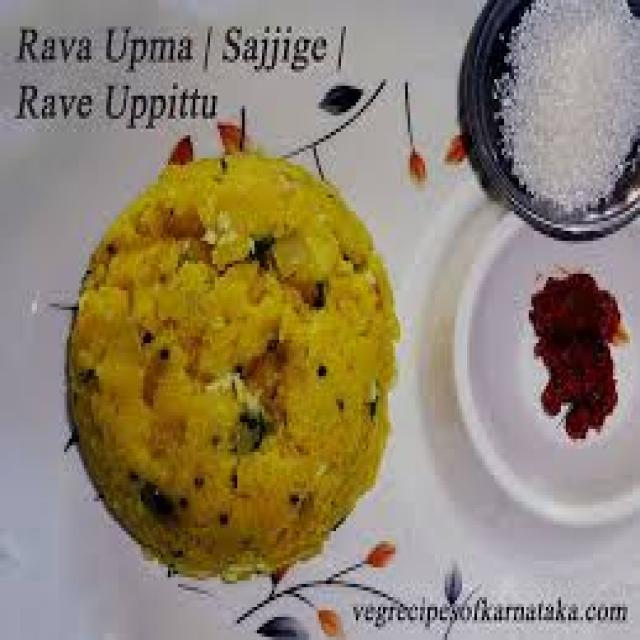UPMA: (67, 150, 399, 586)
